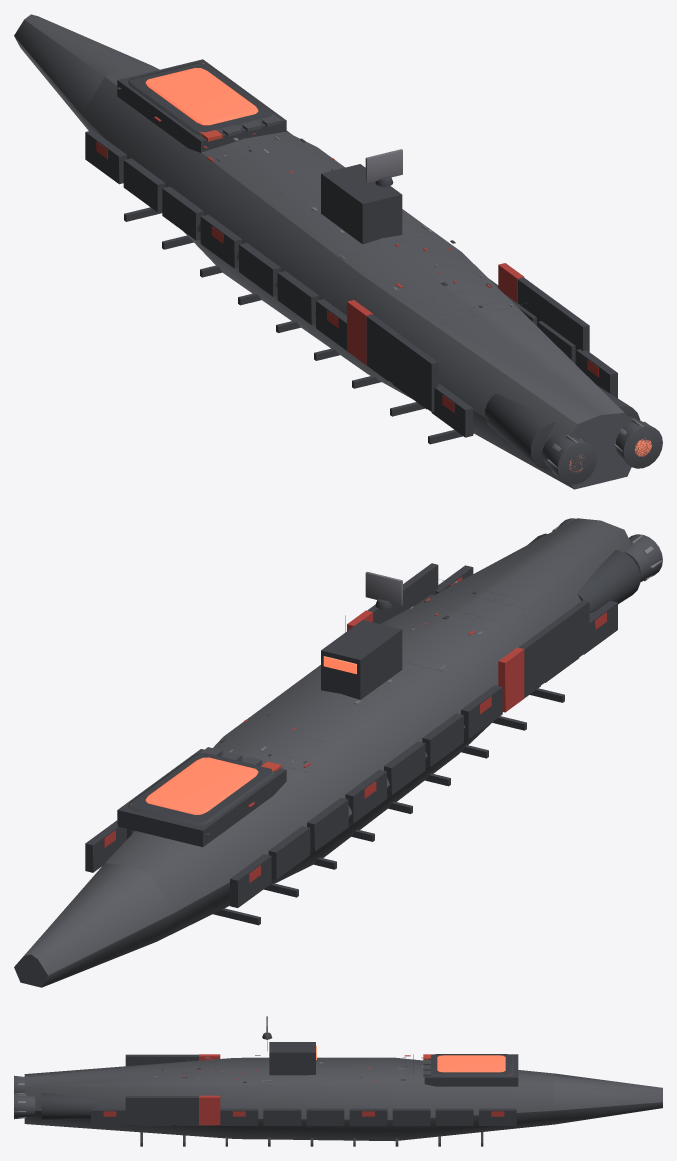
Rendered from capital_warden.glb.
The picture shows the model from 3 angles, top to bottom: view 1: azimuth 30°, elevation 25°; view 2: azimuth 150°, elevation 25°; view 3: azimuth 270°, elevation 25°; orthographic projection. The views are drawn at different scales.
Parts seen in each view (by area): view 1: WardenHull, SUB_launcher, SUB_engine_1, SUB_engine_0, SUB_radar; view 2: WardenHull, SUB_launcher, SUB_engine_1, SUB_radar; view 3: WardenHull, SUB_launcher, SUB_engine_0.
Part boxes in pixels (x1=…): WardenHull: x1=14, y1=14, x2=631, y2=489; SUB_launcher: x1=128, y1=62, x2=275, y2=135; SUB_engine_1: x1=485, y1=394, x2=596, y2=484; SUB_engine_0: x1=597, y1=385, x2=662, y2=468; SUB_radar: x1=365, y1=149, x2=402, y2=186; WardenHull: x1=14, y1=518, x2=630, y2=987; SUB_launcher: x1=128, y1=752, x2=275, y2=825; SUB_engine_1: x1=577, y1=534, x2=662, y2=613; SUB_radar: x1=365, y1=571, x2=402, y2=609; WardenHull: x1=24, y1=1040, x2=662, y2=1146; SUB_launcher: x1=429, y1=1054, x2=513, y2=1076; SUB_engine_0: x1=14, y1=1093, x2=96, y2=1120.
Bounding box in the file's own units: 24.1 × 27.8 × 152.
